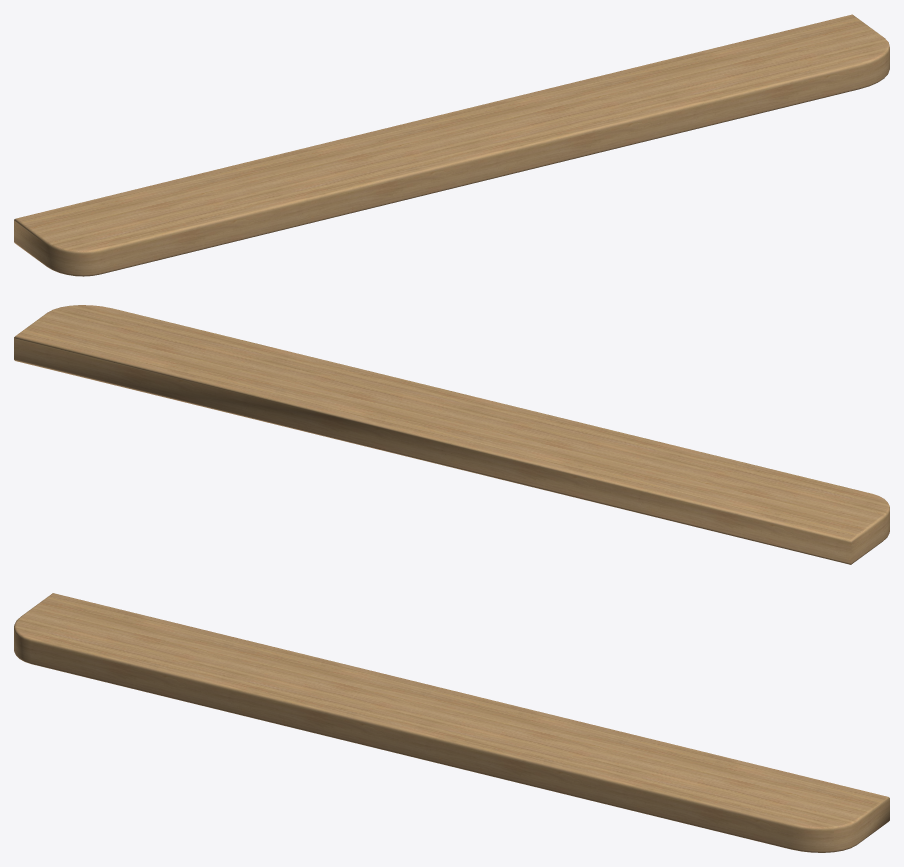
3 views of the same model, one above another, from view 1: azimuth 30°, elevation 25°; view 2: azimuth 150°, elevation 25°; view 3: azimuth 330°, elevation 25° (orthographic).
Parts seen in each view (by area): view 1: Rectangle2002032046; view 2: Rectangle2002032046; view 3: Rectangle2002032046.
Part boxes in pixels (box(x1,y1,x2,y2)): Rectangle2002032046: box(14, 14, 889, 276); Rectangle2002032046: box(14, 305, 889, 564); Rectangle2002032046: box(14, 593, 889, 852).
Size of the model in its own units: 134 by 3.94 by 14.84.
